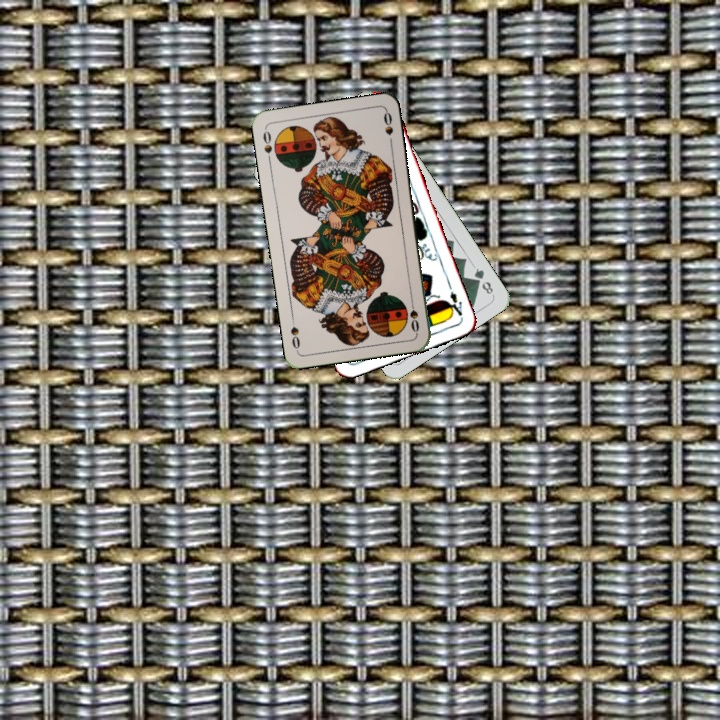EA: (443, 287, 465, 318)
G8: (470, 264, 496, 297)
SO: (406, 295, 422, 335), (259, 127, 275, 166)
